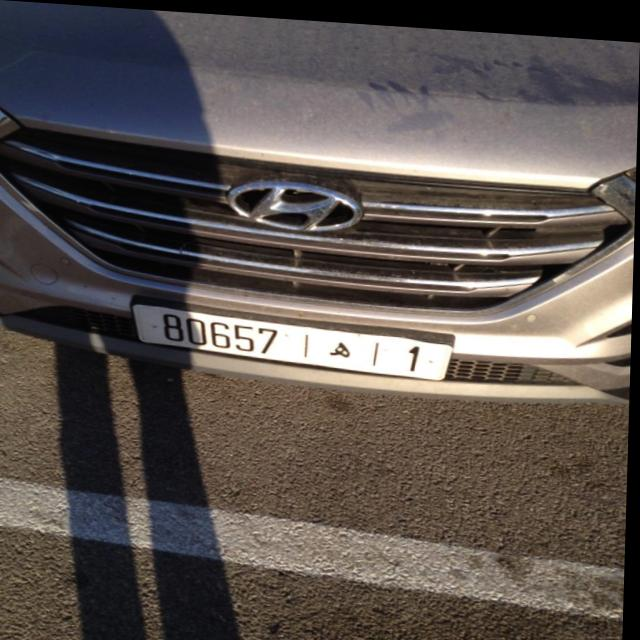License-Plate: (135, 302, 454, 374)
